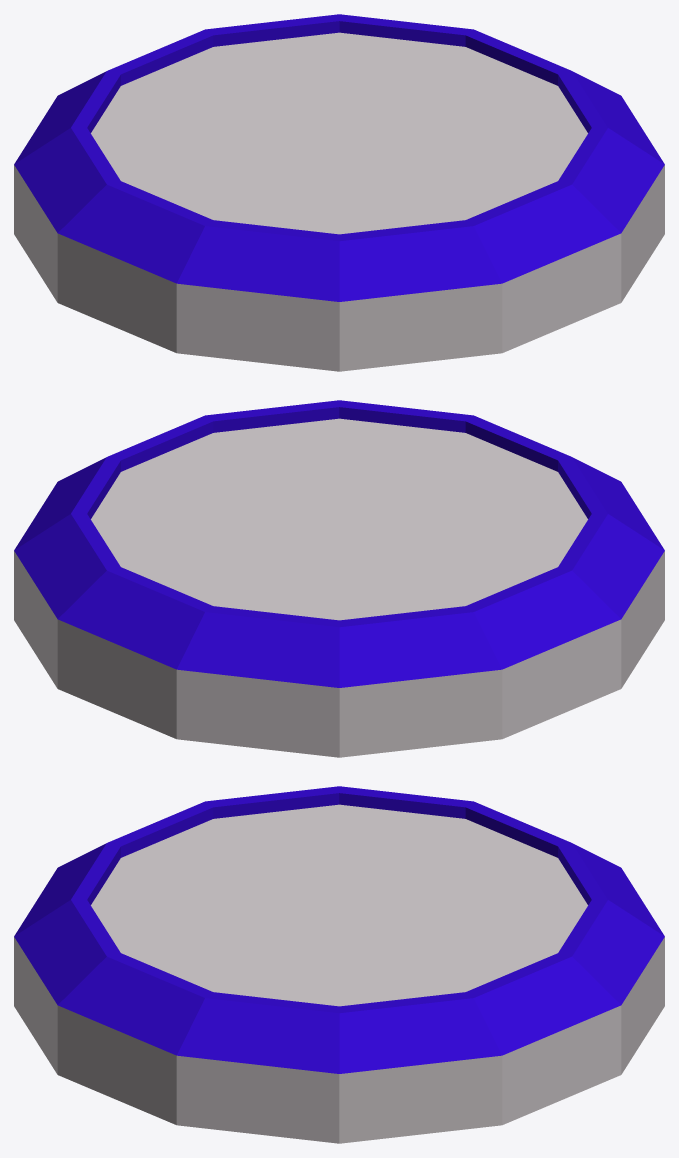
Rendered from PickUp_Platform.fbx.
The picture shows the model from 3 angles, top to bottom: view 1: azimuth 30°, elevation 25°; view 2: azimuth 150°, elevation 25°; view 3: azimuth 270°, elevation 25°; orthographic projection.
Visible parts, largest first — view 1: Cylinder; view 2: Cylinder; view 3: Cylinder.
Boxes of the visible parts, x1,y1,x2,y2 form: Cylinder: (14,14,664,371); Cylinder: (14,400,664,757); Cylinder: (14,786,664,1143).
Size of the model in its own units: 94.88 by 17.12 by 94.88.
